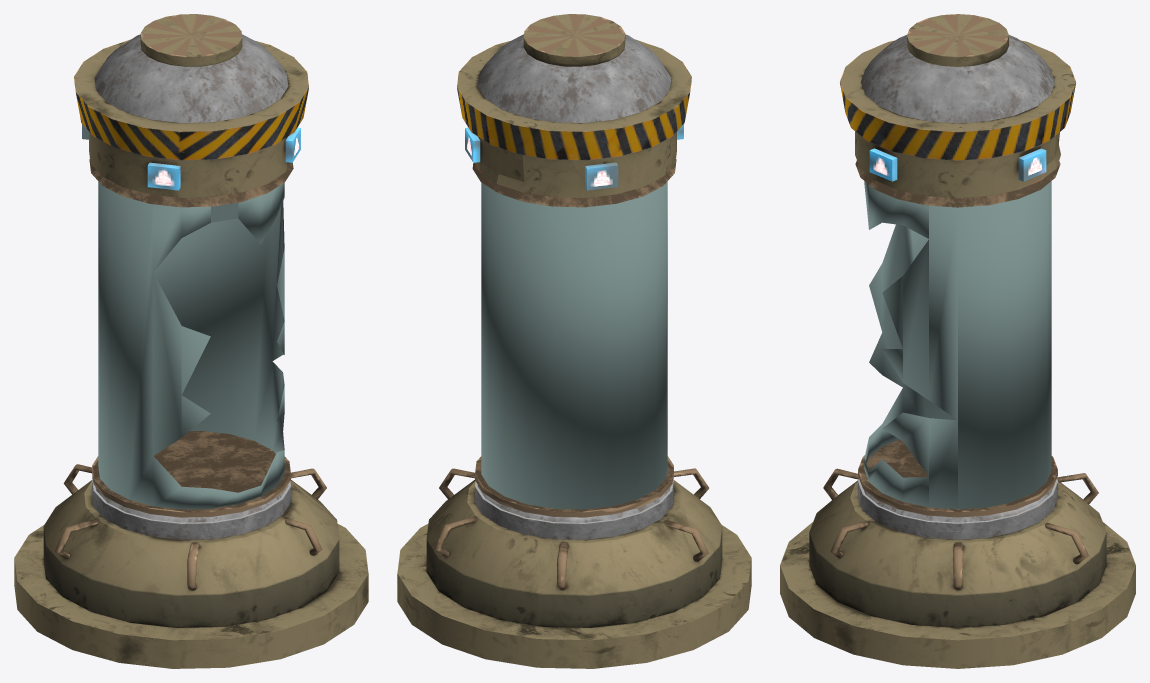
The model's file is ContainmentChamberCracked.fbx.
3 views of the same model, side by side, from view 1: azimuth 30°, elevation 25°; view 2: azimuth 150°, elevation 25°; view 3: azimuth 270°, elevation 25° (orthographic).
Visible parts, largest first — view 1: pasted__pasted__pasted__pCylinder2.003; view 2: pasted__pasted__pasted__pCylinder2.003; view 3: pasted__pasted__pasted__pCylinder2.003.
Boxes of the visible parts, bbox=[...] form: pasted__pasted__pasted__pCylinder2.003: bbox=[14, 14, 368, 668]; pasted__pasted__pasted__pCylinder2.003: bbox=[397, 14, 751, 668]; pasted__pasted__pasted__pCylinder2.003: bbox=[780, 14, 1135, 668].
Bounding box in the file's own units: 288 × 498 × 288.
Materials: 1 (1 with a texture image).
